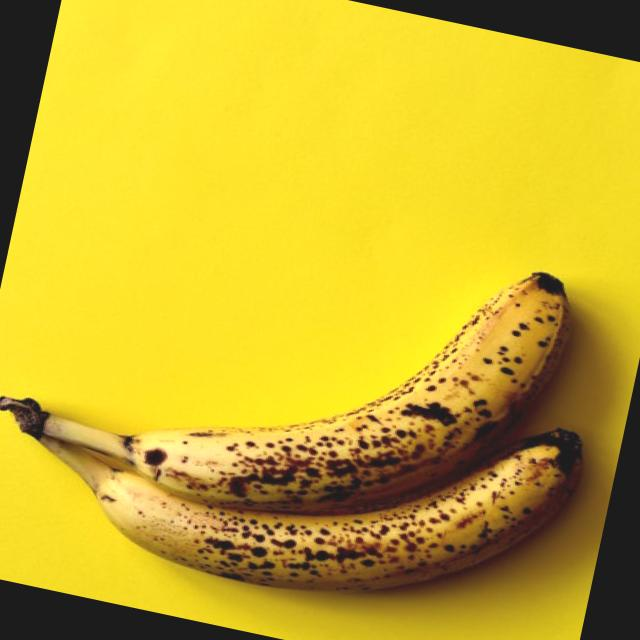banana: (0, 162, 628, 640)
